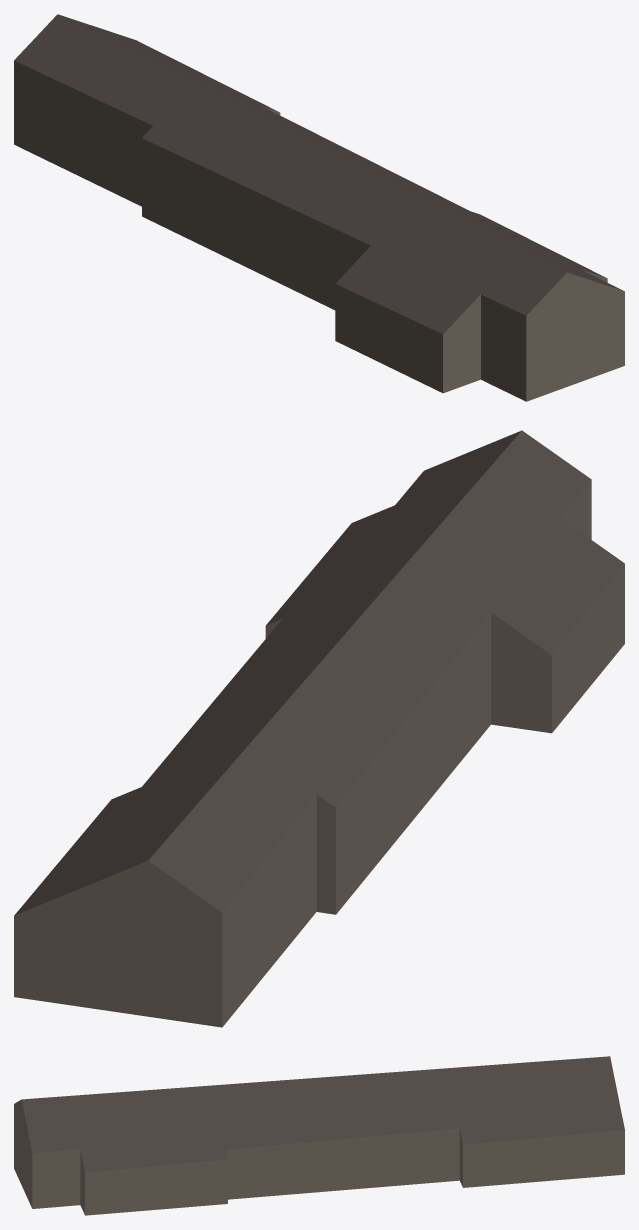
The picture shows the model from 3 angles, top to bottom: view 1: azimuth 30°, elevation 25°; view 2: azimuth 150°, elevation 25°; view 3: azimuth 270°, elevation 25°; orthographic projection. The views are drawn at different scales.
Visible parts, largest first — view 1: HP-w428179920; view 2: HP-w428179920; view 3: HP-w428179920.
Boxes of the visible parts, x1,y1,x2,y2 form: HP-w428179920: [14, 14, 624, 401]; HP-w428179920: [14, 430, 624, 1027]; HP-w428179920: [14, 1056, 624, 1215].
Bounding box in the file's own units: 13.68 × 6 × 38.66.
